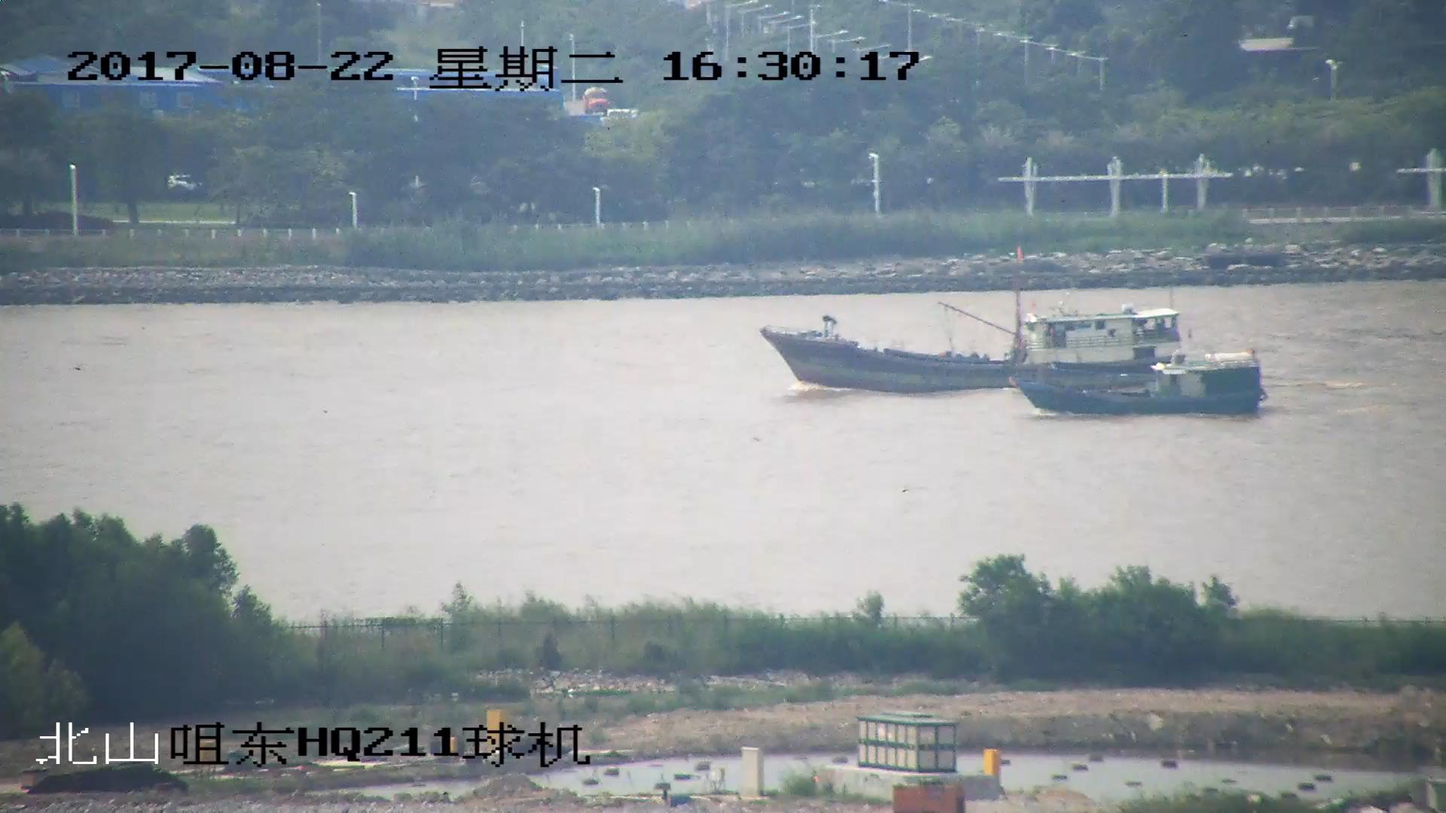fishing boat: (760, 248, 1186, 392), (1016, 354, 1260, 415)
